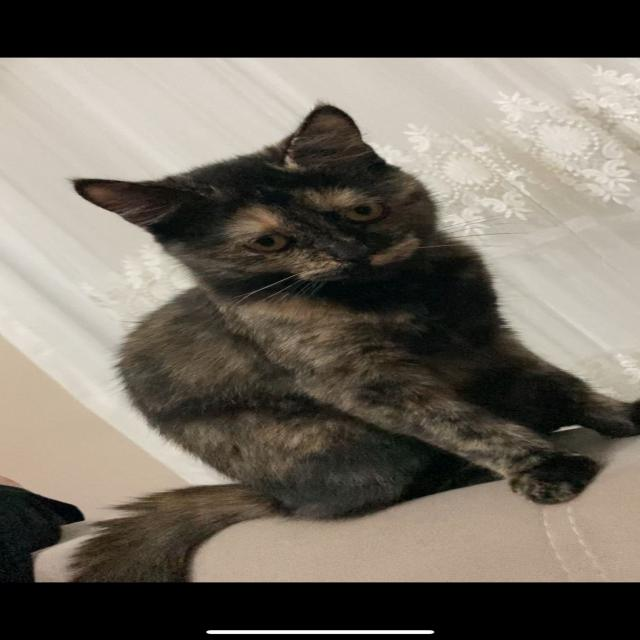authorized: (62, 100, 638, 582)
